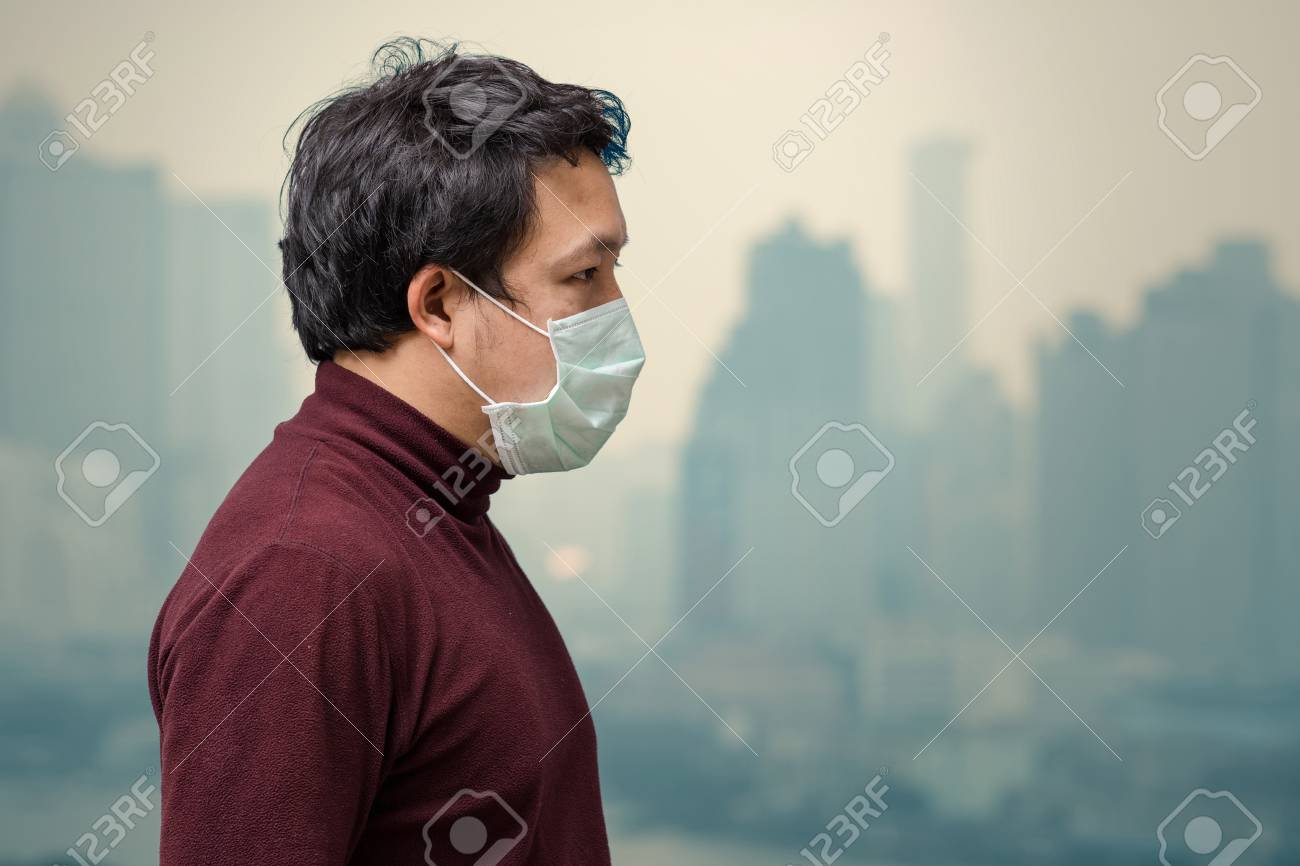mask: (271, 33, 687, 494)
